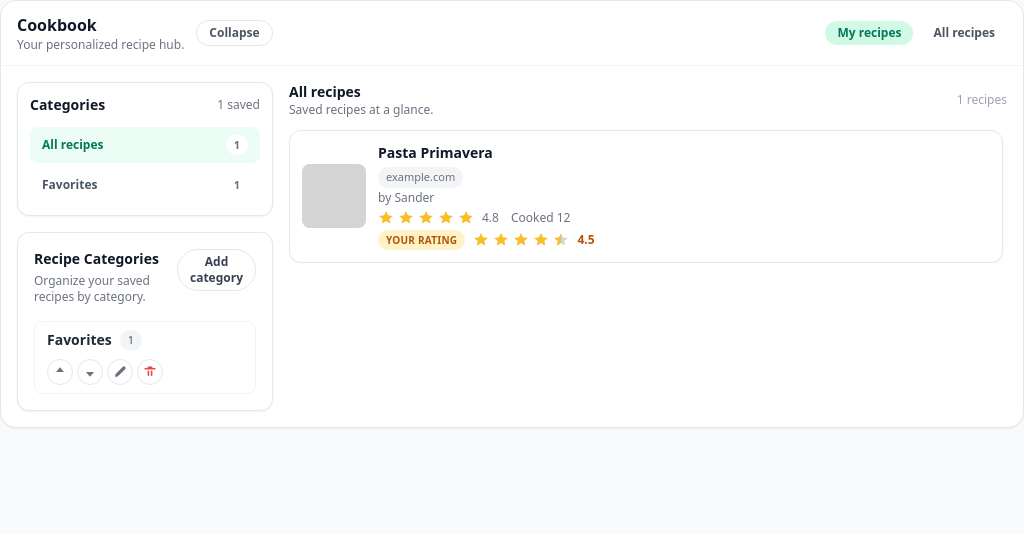
Test: Cookbook › shows recipe posts with basic link metadata in all recipes
What coordinates should you click on to do the following:
click the tab with test id "cookbook-tab-all"
I would click on:
 (964, 33)
Its box is [922,21,1007,45].
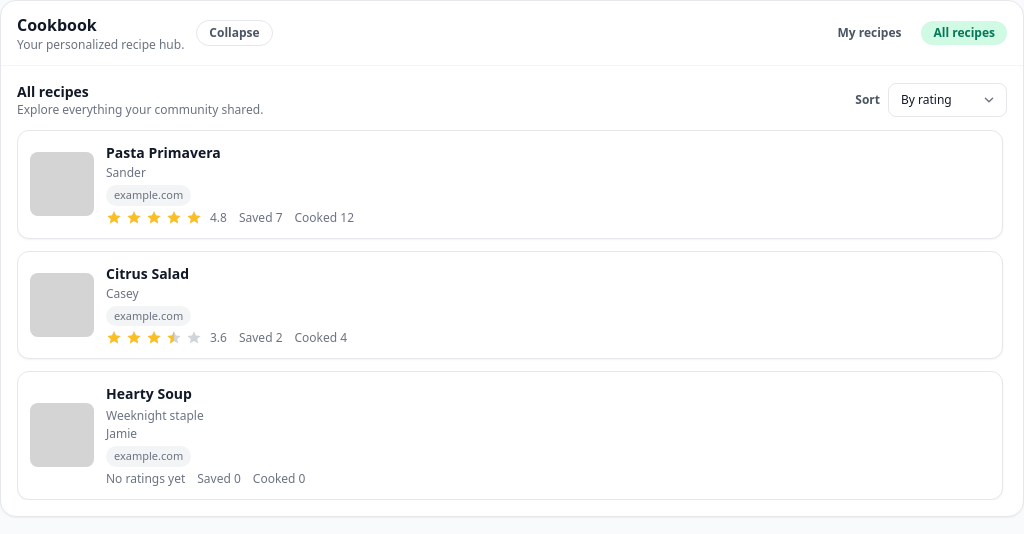
Now the button with test id "all-recipe-item-post-3" is shown, box [17,371,1003,500]
Now the heading "Hearty Soup" is shown, box [106,384,192,403]
